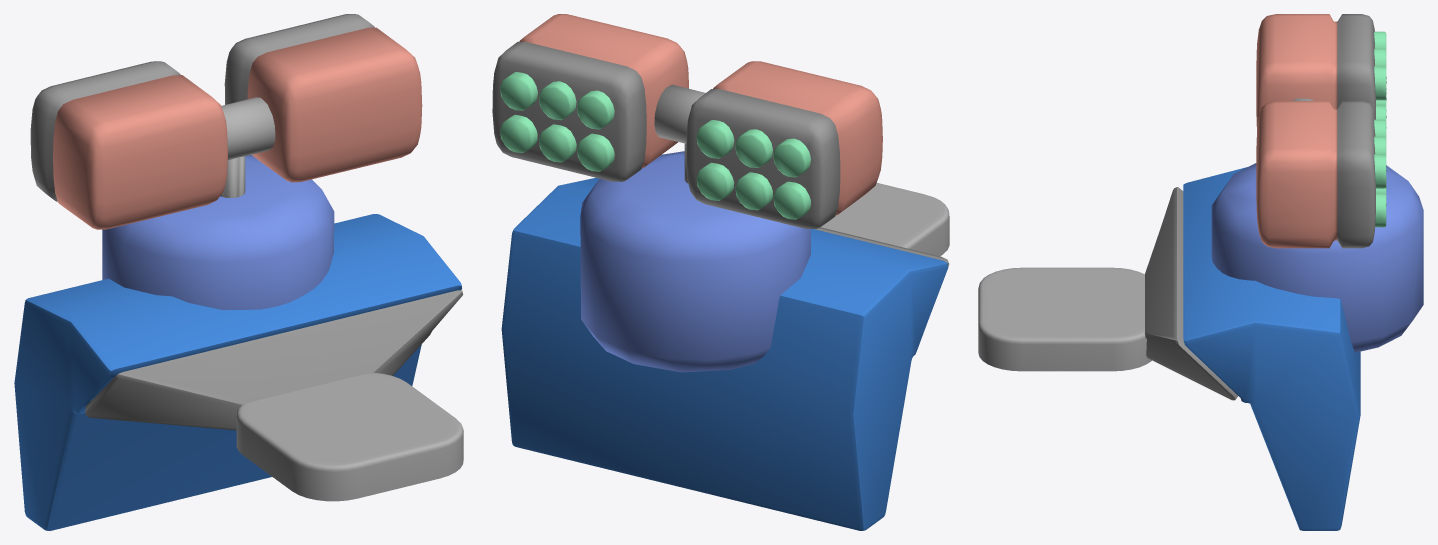
File: rocket_level2.fbx
3 renders of one model, left to right at view 1: azimuth 30°, elevation 25°; view 2: azimuth 150°, elevation 25°; view 3: azimuth 270°, elevation 25°, orthographic. The views are drawn at different scales.
Parts seen in each view (by area): view 1: WeaponBase, rocket_level2, rocket_bottom; view 2: WeaponBase, rocket_level2, rocket_bottom; view 3: WeaponBase, rocket_level2, rocket_bottom.
Boxes of the visible parts, x1,y1,x2,y2 form: WeaponBase: [14, 214, 463, 530]; rocket_level2: [30, 14, 422, 229]; rocket_bottom: [102, 155, 334, 309]; WeaponBase: [501, 178, 949, 530]; rocket_level2: [492, 14, 882, 228]; rocket_bottom: [580, 143, 810, 372]; WeaponBase: [978, 167, 1360, 530]; rocket_level2: [1256, 14, 1386, 248]; rocket_bottom: [1211, 163, 1423, 352].
Size of the model in its own units: 92.74 by 102 by 109.
